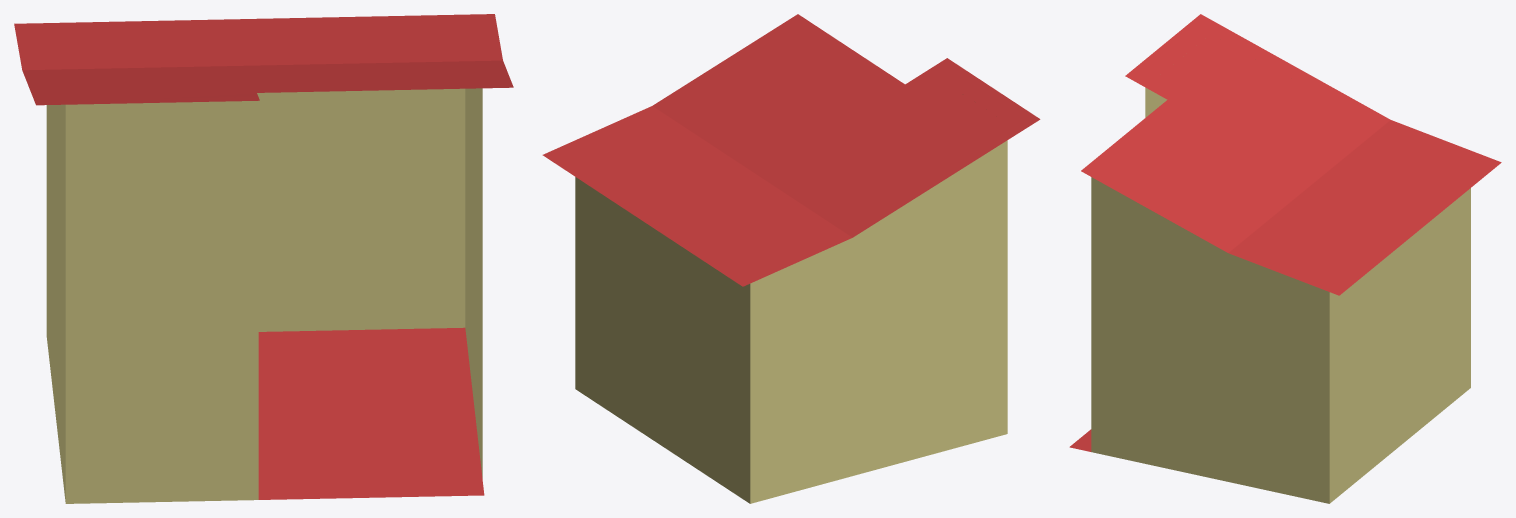
The picture shows the model from 3 angles, left to right: view 1: azimuth 30°, elevation 25°; view 2: azimuth 150°, elevation 25°; view 3: azimuth 270°, elevation 25°; orthographic projection. The views are drawn at different scales.
Size of the model in its own units: 10.25 by 9.42 by 7.31.
